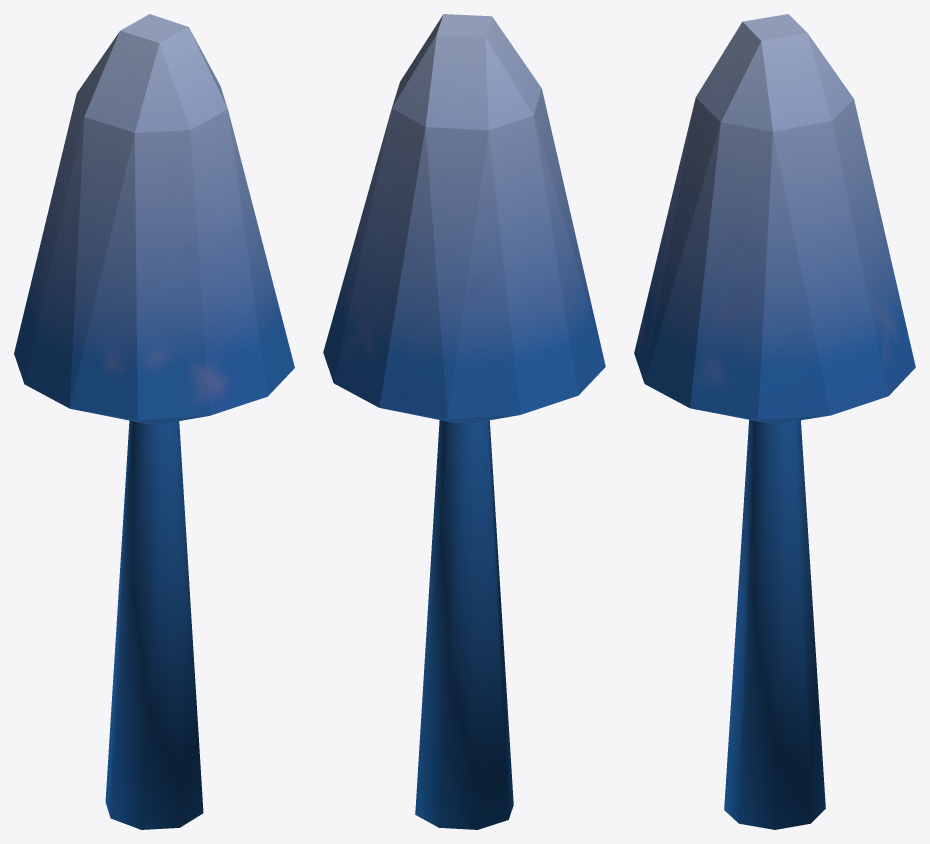
The model's file is Mashroom5.fbx.
The picture shows the model from 3 angles, left to right: view 1: azimuth 30°, elevation 25°; view 2: azimuth 150°, elevation 25°; view 3: azimuth 270°, elevation 25°; orthographic projection.
Visible parts, largest first — view 1: Cylinder.033; view 2: Cylinder.033; view 3: Cylinder.033.
Part boxes in pixels (x1=…): Cylinder.033: x1=14, y1=14, x2=294, y2=829; Cylinder.033: x1=323, y1=14, x2=605, y2=829; Cylinder.033: x1=634, y1=14, x2=915, y2=829.
Size of the model in its own units: 0.1608 by 0.493 by 0.1608.
1 material, 1 textured.
